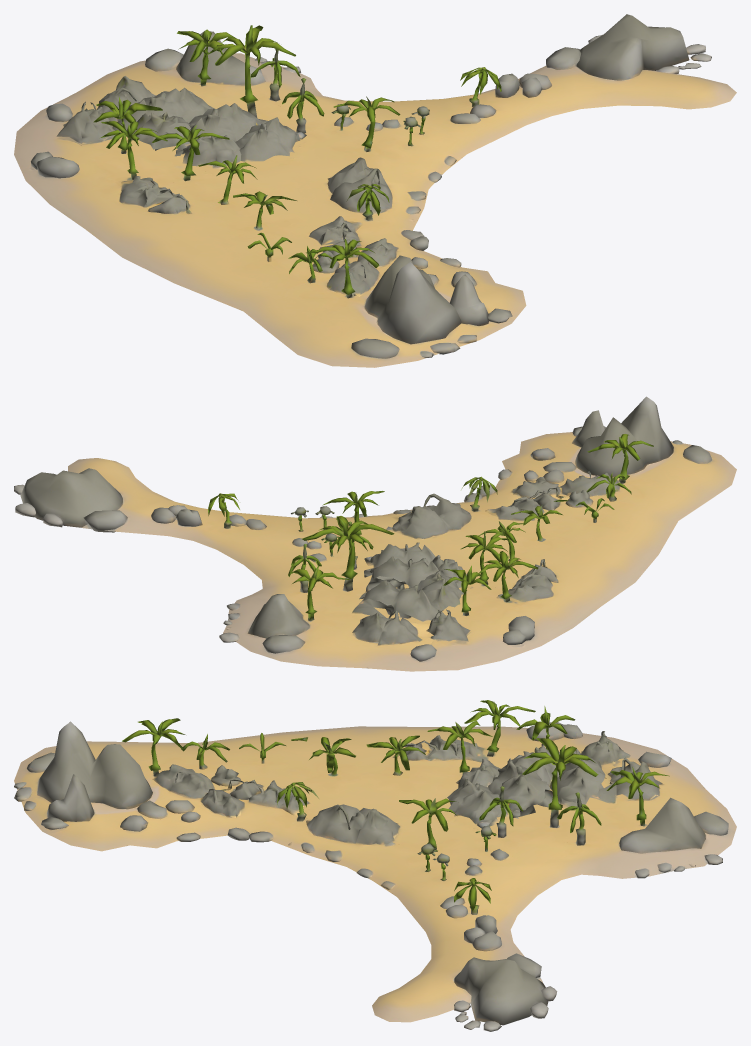
The model's file is isle_07_p1.glb.
3 views of the same model, one above another, from view 1: azimuth 30°, elevation 25°; view 2: azimuth 150°, elevation 25°; view 3: azimuth 270°, elevation 25° (orthographic). The views are drawn at different scales.
Parts seen in each view (by area): view 1: tripo_node_07395a9d-871a-4206-bac3-cf0ccc2be0f0; view 2: tripo_node_07395a9d-871a-4206-bac3-cf0ccc2be0f0; view 3: tripo_node_07395a9d-871a-4206-bac3-cf0ccc2be0f0.
Boxes of the visible parts, <box> form: tripo_node_07395a9d-871a-4206-bac3-cf0ccc2be0f0: <box>14,14,736,367</box>; tripo_node_07395a9d-871a-4206-bac3-cf0ccc2be0f0: <box>14,396,736,671</box>; tripo_node_07395a9d-871a-4206-bac3-cf0ccc2be0f0: <box>14,700,736,1031</box>.
Size of the model in its own units: 0.998 by 0.1465 by 0.998.
1 material, 1 textured.
